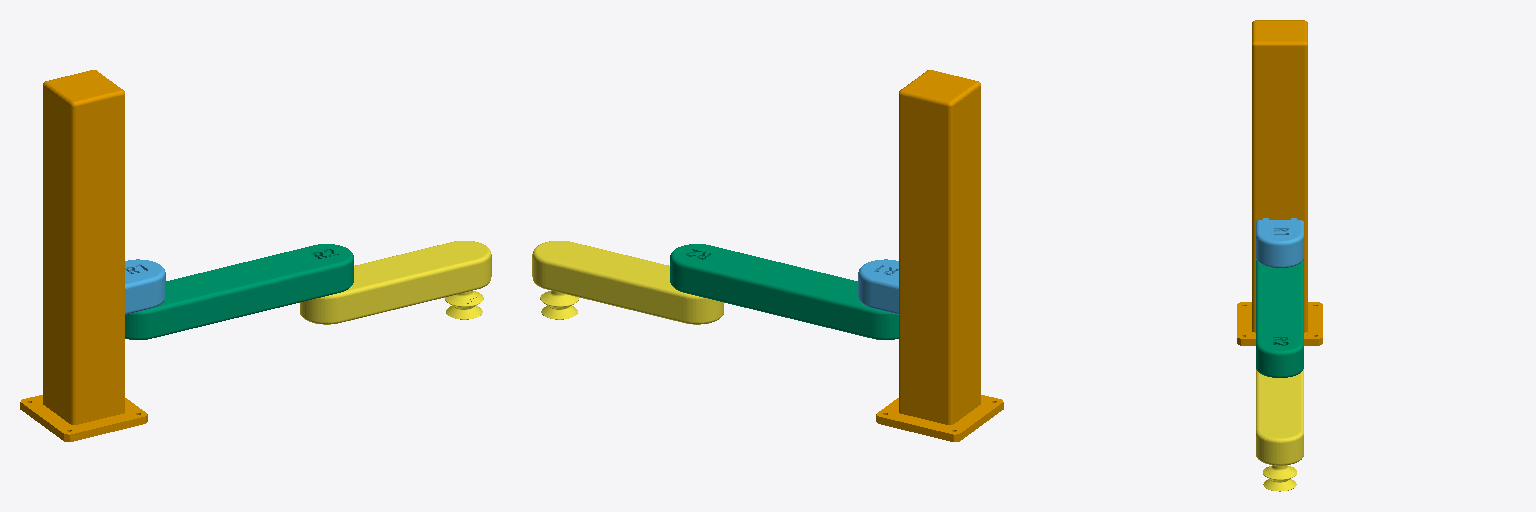
URDF robot description (Scara_PRR):
<robot name="Scara_PRR">

  <link name="P1-L">
    <visual>
      <geometry>
        <mesh filename="package://my_robot/meshes/P1-L.STL"/>
      </geometry>
    </visual>
    <collision>
      <geometry>
        <mesh filename="package://my_robot/meshes/P1-L.STL"/>
      </geometry>
    </collision>
  </link>

  <joint name="L1" type="prismatic">
    <origin xyz="0.15 0 0.27" rpy="0 0 0"/>
    <parent link="P1-L"/>
    <child  link="P1-J1"/>
    <axis   xyz="0 0 1"/>
    <limit  lower="0" upper="0.50" effort="100" velocity="0.5"/>
  </joint>

  <link name="P1-J1">
    <visual>
      <geometry>
        <mesh filename="package://my_robot/meshes/P1-J1.STL"/>
      </geometry>
    </visual>
    <collision>
      <geometry>
        <mesh filename="package://my_robot/meshes/P1-J1.STL"/>
      </geometry>
    </collision>
  </link>

  <joint name="R1" type="revolute">
    <origin xyz="0 0 0" rpy="0 0 0"/>
    <parent link="P1-J1"/>
    <child  link="P1-L2"/>
    <axis   xyz="0 0 1"/>
    <limit  lower="-1.57" upper="1.57" effort="100" velocity="0.5"/>
  </joint>

  <link name="P1-L2">
    <visual>
      <geometry>
        <mesh filename="package://my_robot/meshes/P1-L2.STL"/>
      </geometry>
    </visual>
    <collision>
      <geometry>
        <mesh filename="package://my_robot/meshes/P1-L2.STL"/>
      </geometry>
    </collision>
  </link>

  <joint name="R2" type="revolute">
    <origin xyz="0.52 0 -0.08" rpy="0 0 0"/>
    <parent link="P1-L2"/>
    <child  link="P1-L3"/>
    <axis   xyz="0 0 1"/>
    <limit  lower="-3.14" upper="3.14" effort="100" velocity="0.5"/>
  </joint>

  <link name="P1-L3">
    <visual>
      <geometry>
        <mesh filename="package://my_robot/meshes/P1-L3.STL"/>
      </geometry>
    </visual>
    <collision>
      <geometry>
        <mesh filename="package://my_robot/meshes/P1-L3.STL"/>
      </geometry>
    </collision>
  </link>

</robot>

--- What the picture shows (computed from the rendered views, not written in the file) ---
3 views of the same robot in one strip: view 1: azimuth 30°, elevation 25°; view 2: azimuth 150°, elevation 25°; view 3: azimuth 270°, elevation 25° (orthographic).
Model Scara_PRR with 4 links and 3 joints (2 revolute, 1 prismatic), rooted at P1-L, posed all joints at 0.
Links seen in each view (by area): view 1: P1-L, P1-L2, P1-L3, P1-J1; view 2: P1-L, P1-L2, P1-L3, P1-J1; view 3: P1-L, P1-L2, P1-L3, P1-J1.
Boxes of the visible links, <box> form: P1-L: <box>20,70,147,441</box>; P1-L2: <box>125,244,353,339</box>; P1-L3: <box>300,241,491,324</box>; P1-J1: <box>125,259,165,314</box>; P1-L: <box>876,70,1003,441</box>; P1-L2: <box>670,244,898,339</box>; P1-L3: <box>532,241,723,324</box>; P1-J1: <box>858,259,898,314</box>; P1-L: <box>1237,20,1322,345</box>; P1-L2: <box>1256,260,1303,377</box>; P1-L3: <box>1256,369,1303,491</box>; P1-J1: <box>1256,218,1303,267</box>.
Bounding box of the posed robot: 1.23 × 0.23 × 0.87 m (x, y, z).
Meshes: 4 distinct files referenced, 4 mesh visuals loaded (4 binary STL).
